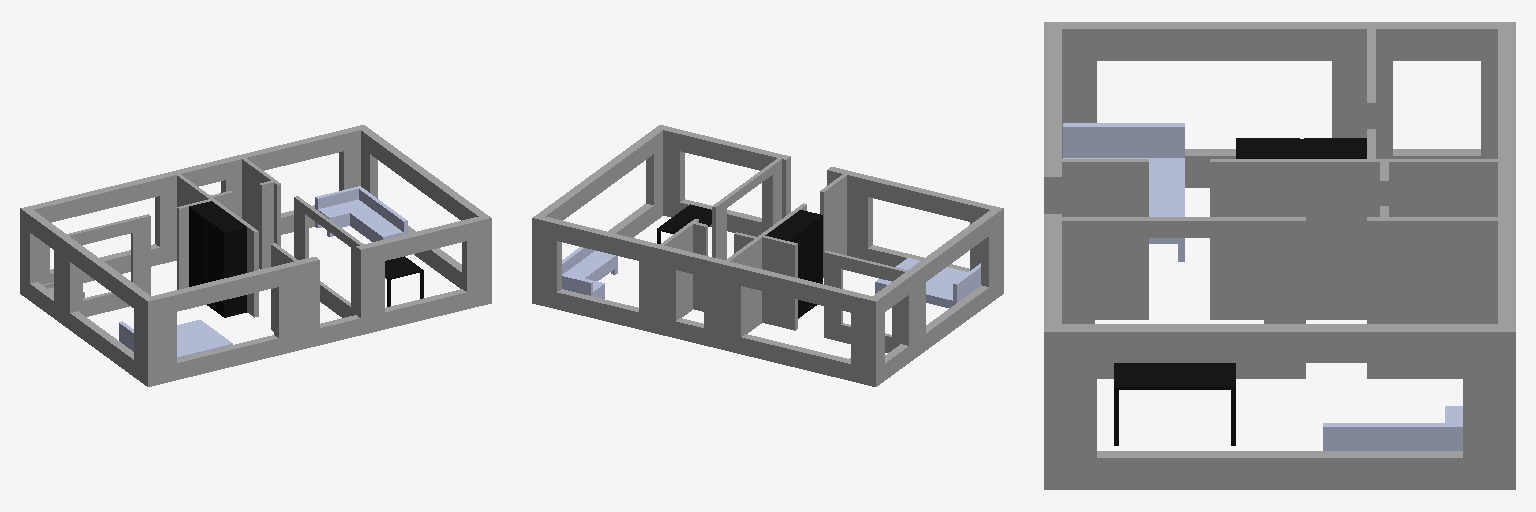
robot.urdf — indoor:
<?xml version="1.0" ?>

<robot name="indoor">
    <gazebo>
        <mu1>0.6</mu1>
        <mu2>0.6</mu2>
        <static> true </static>
    </gazebo>
    <link name="walls">
        <inertial>
            <origin xyz="-0.496631578397158 0.977578205182804 -2.17542484667514" rpy="0 0 0" />
            <mass value="2000" />
            <inertia ixx="247.944047109463" ixy="-2.89194416615869" ixz="9.24387940903213" iyy="226.218346733999" iyz="70.6539534914747" izz="22.4824247145438" />
        </inertial>
        <visual>
            <origin xyz="0 0 0" rpy="0 0 0" />
            <geometry>
                <mesh filename="package://minilab_model/meshes/indoor/walls.STL" />
            </geometry>
            <material name="">
                <color rgba="0.698039215686274 0.698039215686274 0.698039215686274 1" />
            </material>
        </visual>
        <collision>
            <origin xyz="0 0 0" rpy="0 0 0" />
            <geometry>
                <mesh filename="package://minilab_model/meshes/indoor/walls.STL" />
            </geometry>
        </collision>
    </link>
    <link name="bed">
        <visual>
            <origin xyz="0 0 0" rpy="0 0 0" />
            <geometry>
                <mesh filename="package://minilab_model/meshes/indoor/bed.STL" />
            </geometry>
            <material name="">
                <color rgba="0.79216 0.81961 0.93333 1" />
            </material>
        </visual>
        <collision>
            <origin xyz="0 0 0" rpy="0 0 0" />
            <geometry>
                <mesh filename="package://minilab_model/meshes/indoor/bed.STL" />
            </geometry>
        </collision>
    </link>
    <joint name="bed_joint" type="fixed">
        <origin xyz="-3.34 0.21 0.2" rpy="1.5708 6.123E-17 1.5708" />
        <parent link="walls" />
        <child link="bed" />
        <axis xyz="0 0 0" />
    </joint>

    <link name="wardrobe">
        <visual>
            <origin xyz="0 0 0" rpy="0 0 0" />
            <geometry>
                <mesh filename="package://minilab_model/meshes/indoor/wardrobe.STL" />
            </geometry>
            <material name="">
                <color rgba="0.1 0.1 0.1 0.1" />
            </material>
        </visual>
        <collision>
            <origin xyz="0 0 0" rpy="0 0 0" />
            <geometry>
                <mesh filename="package://minilab_model/meshes/indoor/wardrobe.STL" />
            </geometry>
        </collision>
    </link>
    <joint name="wardrobe_joint" type="fixed">
        <origin xyz="-1.135 2.249 0" rpy="-1.5708 -6.123E-17 -1.5708" />
        <parent link="walls" />
        <child link="wardrobe" />
        <axis xyz="0 0 0" />
    </joint>

    <link name="table">
        <visual>
            <origin xyz="0 0 0" rpy="0 0 0" />
            <geometry>
                <mesh filename="package://minilab_model/meshes/indoor/table.STL" />
            </geometry>
            <material name="">
                <color rgba="0.1 0.1 0.1 1" />
            </material>
        </visual>
        <collision>
            <origin xyz="0 0 0" rpy="0 0 0" />
            <geometry>
                <mesh filename="package://minilab_model/meshes/indoor/table.STL" />
            </geometry>
        </collision>
    </link>
    <joint name="table_joint" type="fixed">
        <origin xyz="2.225 0.8 0.7" rpy="-1.5708 -6.123E-17 -1.5708" />
        <parent link="walls" />
        <child link="table" />
        <axis xyz="0 0 0" />
    </joint>

    <link name="sofa">
        <visual>
            <origin xyz="0 0 0" rpy="0 0 0" />
            <geometry>
                <mesh filename="package://minilab_model/meshes/indoor/sofa.STL" />
            </geometry>
            <material  name="">
                <color rgba="0.79216 0.81961 0.93333 1" />
            </material>
        </visual>
        <collision>
            <origin xyz="0 0 0" rpy="0 0 0" />
            <geometry>
                <mesh filename="package://minilab_model/meshes/indoor/sofa.STL" />
            </geometry>
        </collision>
    </link>
    <joint name="sofa_joint" type="fixed">
        <origin xyz="3.04 3.89 0.15" rpy="1.5708 6.123E-17 1.5708" />
        <parent link="walls" />
        <child link="sofa" />
        <axis xyz="0 0 0" />
    </joint>

    <gazebo reference="walls">
        <material>Gazebo/White</material>
    </gazebo>
    <gazebo reference="sofa">
        <material>Gazebo/Grey</material>
    </gazebo>
    <gazebo reference="table">
        <material>Gazebo/Grey</material>
    </gazebo>
    <gazebo reference="bed">
        <material>Gazebo/Grey</material>
    </gazebo>
    <gazebo reference="wardrobe">
        <material>Gazebo/Grey</material>
    </gazebo>
</robot>

--- Render facts (derived) ---
Views: 3 orthographic renders of the robot side by side, from view 1: azimuth 30°, elevation 25°; view 2: azimuth 150°, elevation 25°; view 3: azimuth 270°, elevation 25°.
Model indoor with 5 links and 4 joints (4 fixed), rooted at walls, posed all joints at 0.
Links seen in each view (by area): view 1: walls, wardrobe, sofa, bed, table; view 2: walls, wardrobe, sofa, bed, table; view 3: walls, bed, sofa, table, wardrobe.
Boxes of the visible links, x1,y1,x2,y2 form: walls: [20, 125, 491, 386]; wardrobe: [189, 201, 246, 317]; sofa: [315, 186, 407, 241]; bed: [119, 320, 232, 357]; table: [385, 256, 423, 306]; walls: [532, 125, 1003, 386]; wardrobe: [765, 210, 822, 318]; sofa: [562, 247, 617, 298]; bed: [875, 258, 980, 307]; table: [657, 204, 711, 243]; walls: [1044, 22, 1515, 489]; bed: [1063, 123, 1184, 261]; sofa: [1323, 406, 1462, 450]; table: [1114, 363, 1235, 445]; wardrobe: [1236, 138, 1366, 158].
Bounding box of the posed robot: 8.4 × 5.4 × 2 m (x, y, z).
5 mesh visuals loaded from 5 distinct referenced files (5 binary STL).